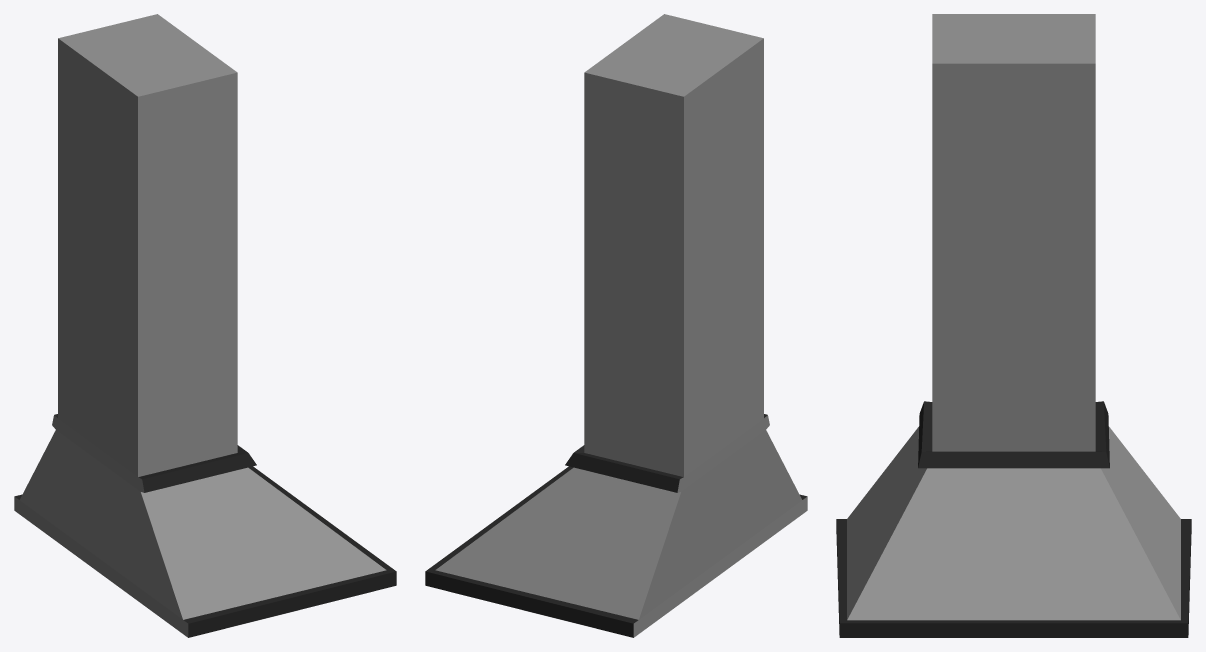
Rendered from Extractor.fbx.
The picture shows the model from 3 angles, left to right: view 1: azimuth 30°, elevation 25°; view 2: azimuth 150°, elevation 25°; view 3: azimuth 270°, elevation 25°; orthographic projection. The views are drawn at different scales.
Visible parts, largest first — view 1: Cube.002; view 2: Cube.002; view 3: Cube.002.
Part boxes in pixels (x1,y1,x2,y2): Cube.002: (14, 14, 396, 637); Cube.002: (425, 14, 807, 637); Cube.002: (836, 14, 1191, 637).
Size of the model in its own units: 46.67 by 33 by 75.12.
Materials: 1 (1 with a texture image).
